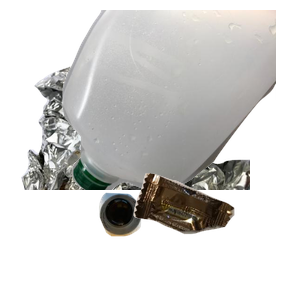glass: (96, 190, 230, 300)
metal: (19, 14, 259, 194)
plastic: (60, 10, 300, 190)
trash: (131, 171, 300, 300)
